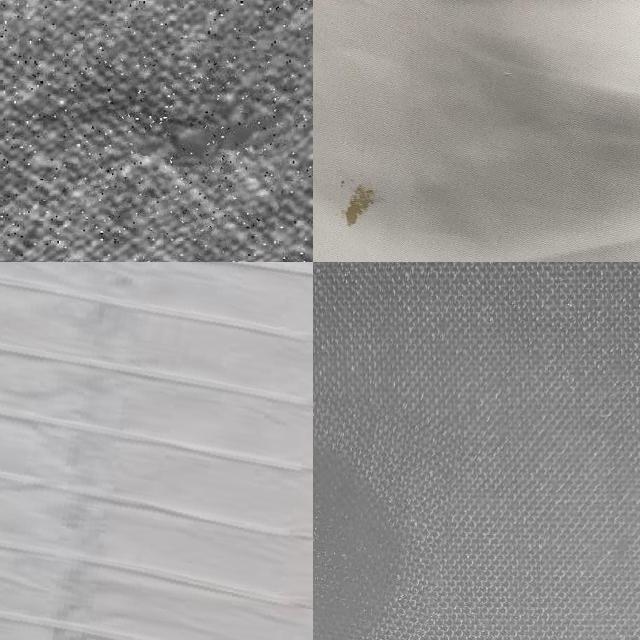Thread_other: (313, 0, 640, 262), (313, 391, 452, 640), (313, 193, 383, 262), (614, 46, 640, 130)
Thread_out: (0, 262, 313, 640)
other: (60, 28, 296, 242)
